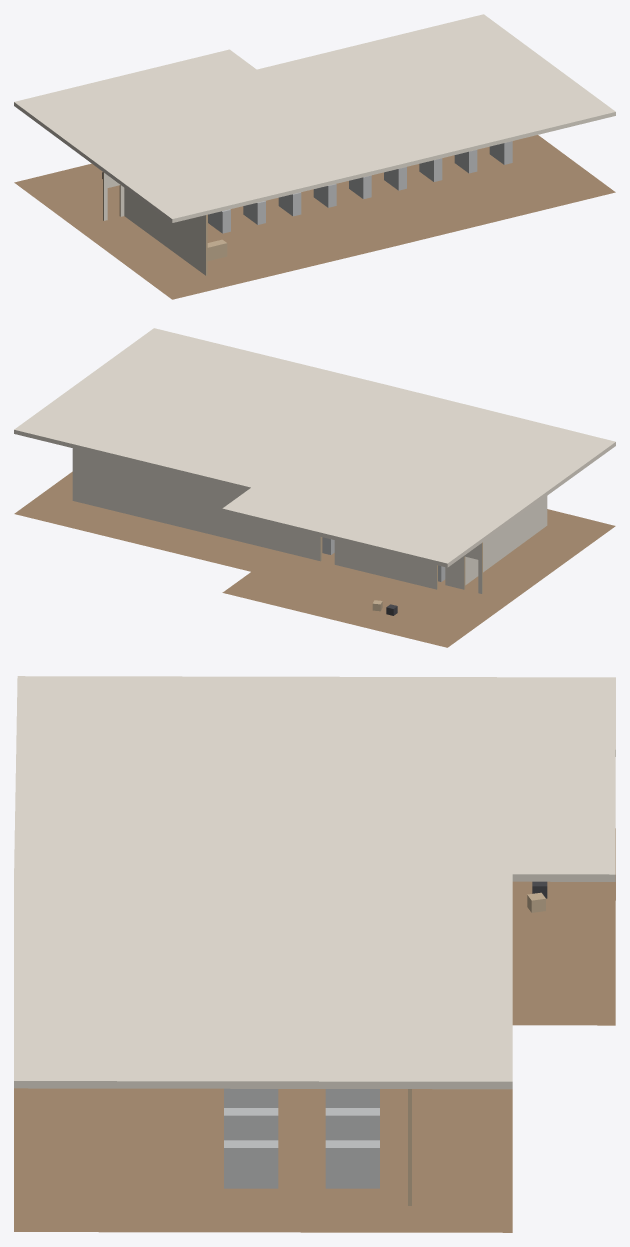
The model's file is interior.glb.
The picture shows the model from 3 angles, top to bottom: view 1: azimuth 30°, elevation 25°; view 2: azimuth 150°, elevation 25°; view 3: azimuth 270°, elevation 25°; orthographic projection. The views are drawn at different scales.
Parts seen in each view (by area): view 1: slabs, coarse-s0, partitions; view 2: slabs, partitions, coarse-s0; view 3: slabs, coarse-s0.
Boxes of the visible parts, x1=… form: slabs: x1=14, y1=14, x2=615, y2=299; coarse-s0: x1=102, y1=141, x2=512, y2=261; partitions: x1=103, y1=172, x2=207, y2=275; slabs: x1=14, y1=328, x2=615, y2=647; partitions: x1=72, y1=448, x2=547, y2=593; coarse-s0: x1=322, y1=537, x2=445, y2=615; slabs: x1=14, y1=676, x2=615, y2=1232; coarse-s0: x1=224, y1=881, x2=547, y2=1188.
Bounding box in the file's own units: 30.24 × 5.27 × 18.97.
